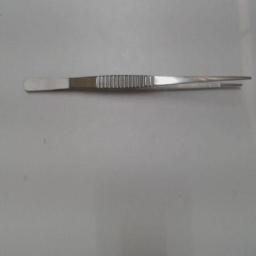DeBakey Dissector: (15, 58, 253, 116)
